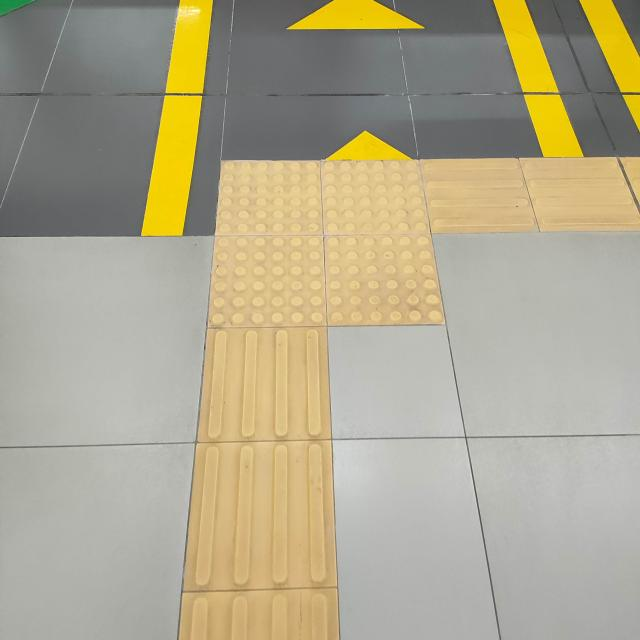kanan: (150, 115, 616, 367)
